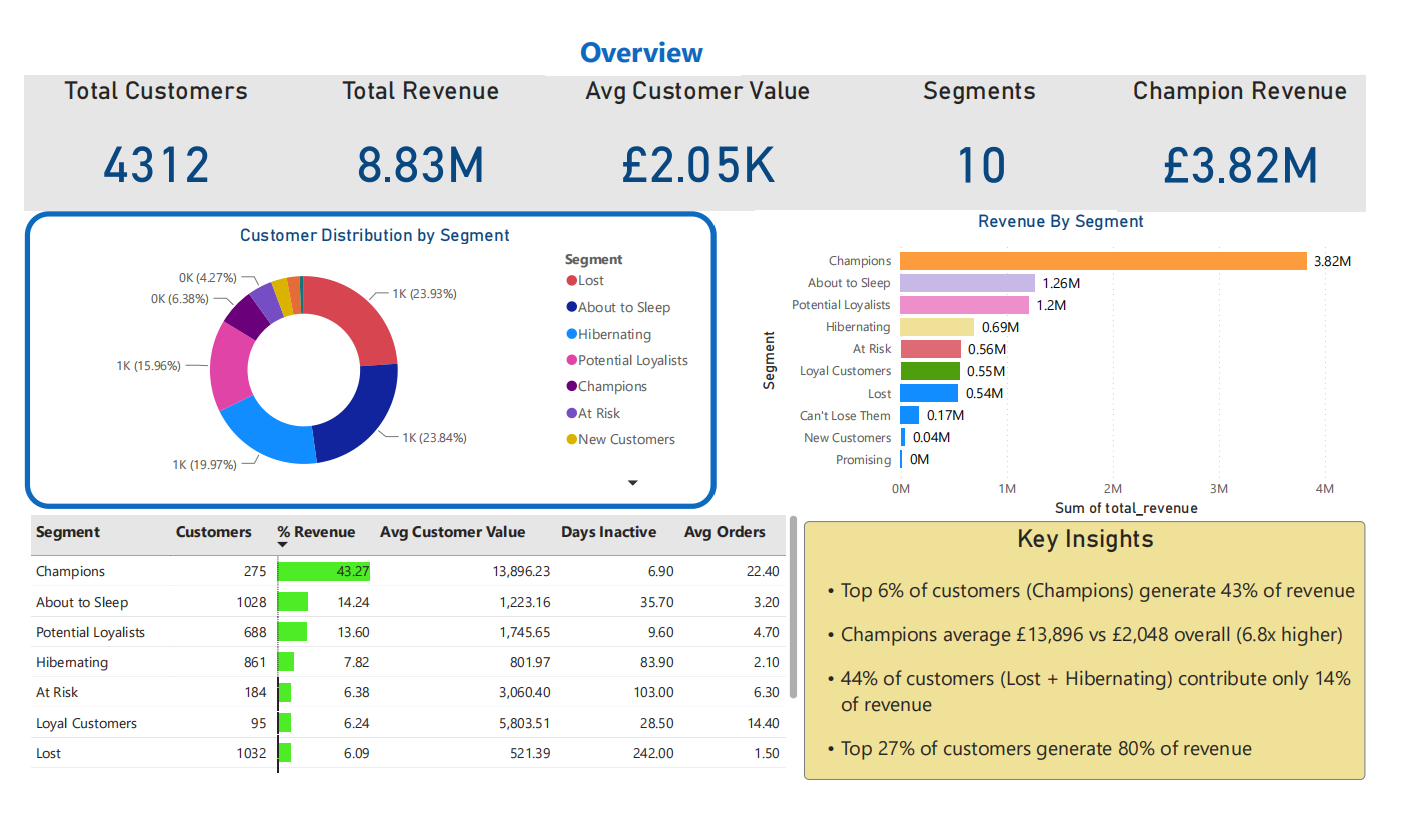

The dashboard page shown, as its layout file describes it:
{"tool":"powerbi","page":{"name":"Overview","canvas":[1280,720],"ordinal":0},"visuals":[{"type":"card","title":"Total Revenue","fields":{"Values":["Sum(ecommerce_analytics vw_customer_details.Monetary)"]},"box":[252.2,46.7,254.4,130],"z":0},{"type":"card","title":"Avg Customer Value","fields":{"Values":["ecommerce_analytics vw_segment_summary.Avg Customer Value"]},"box":[506.7,46.7,276.7,130],"z":1000},{"type":"card","title":"Segments","fields":{"Values":["Count(ecommerce_analytics vw_segment_summary.Segment)"]},"box":[783.3,46.7,262.2,131.1],"z":2000},{"type":"donutChart","title":" Customer Distribution by Segment","fields":{"Category":["ecommerce_analytics vw_segment_summary.Segment"],"Y":["Sum(ecommerce_analytics vw_segment_summary.customer_count)"]},"box":[0,176.7,661.7,285],"z":3000},{"type":"card","title":"Total Customers","fields":{"Values":["Sum(ecommerce_analytics vw_segment_summary.customer_count)"]},"box":[0,46.7,252.2,130],"z":4000},{"type":"clusteredBarChart","title":"Revenue By Segment","fields":{"Category":["ecommerce_analytics vw_segment_summary.Segment"],"Y":["Sum(ecommerce_analytics vw_segment_summary.total_revenue)"]},"box":[698.3,175,586.7,298.3],"z":5000},{"type":"tableEx","fields":{"Values":["ecommerce_analytics vw_segment_summary.Segment","ecommerce_analytics vw_segment_summary.customer_count","ecommerce_analytics vw_segment_summary.pct_of_revenue","ecommerce_analytics vw_segment_summary.avg_customer_value","ecommerce_analytics vw_segment_summary.avg_recency","ecommerce_analytics vw_segment_summary.avg_frequency"]},"box":[0,461.7,745,256.7],"z":6000},{"type":"card","title":"Champion Revenue","fields":{"Values":["ecommerce_analytics vw_segment_summary.Champion Revenue"]},"box":[1045.6,46.7,237.8,131.1],"z":7000},{"type":"textbox","box":[910,515,270,200],"z":8000},{"type":"textbox","title":"Key Insights","box":[745,473.3,538.3,248.3],"z":9000},{"type":"textbox","box":[498.9,0,185.6,46.7],"z":9001}]}

Visuals, with their boxes on the page's 1280x720 design canvas (x1, y1, x2, y2). These are canvas units, not pixel positions in the 1422x840 screenshot, which may show the page scaled, cropped or inside an application window:
"Total Revenue" card: BBox(252, 47, 507, 177)
"Avg Customer Value" card: BBox(507, 47, 783, 177)
"Segments" card: BBox(783, 47, 1046, 178)
" Customer Distribution by Segment" donutChart: BBox(0, 177, 662, 462)
"Total Customers" card: BBox(0, 47, 252, 177)
"Revenue By Segment" clusteredBarChart: BBox(698, 175, 1285, 473)
tableEx - ecommerce_analytics vw_segment_summary.Segment x ecommerce_analytics vw_segment_summary.customer_count: BBox(0, 462, 745, 718)
"Champion Revenue" card: BBox(1046, 47, 1283, 178)
textbox: BBox(910, 515, 1180, 715)
"Key Insights" textbox: BBox(745, 473, 1283, 722)
textbox: BBox(499, 0, 684, 47)
